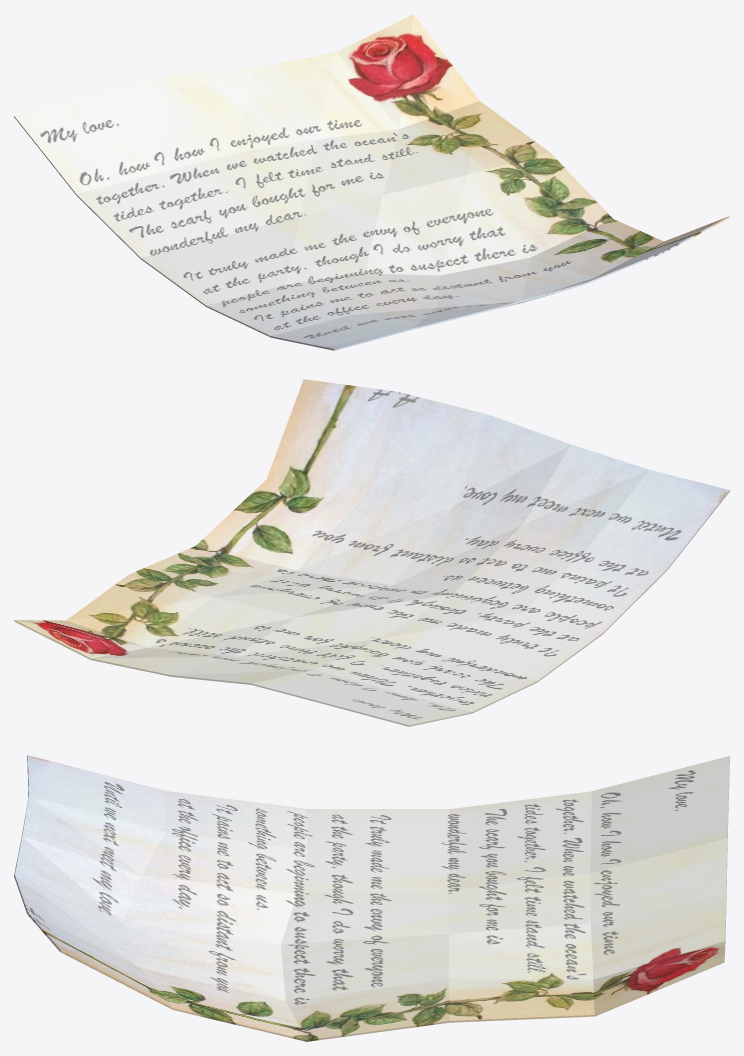
File: paper2_asset.fbx
3 renders of one model, top to bottom at view 1: azimuth 30°, elevation 25°; view 2: azimuth 150°, elevation 25°; view 3: azimuth 270°, elevation 25°, orthographic. The views are drawn at different scales.
Visible parts, largest first — view 1: paper2; view 2: paper2; view 3: paper2.
Boxes of the visible parts, box(x1,y1,x2,y2) form: paper2: box(14, 14, 729, 350); paper2: box(14, 379, 729, 726); paper2: box(14, 755, 729, 1041).
Bounding box in the file's own units: 12.05 × 2.64 × 16.56.
